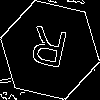R: (25, 25, 71, 78)
